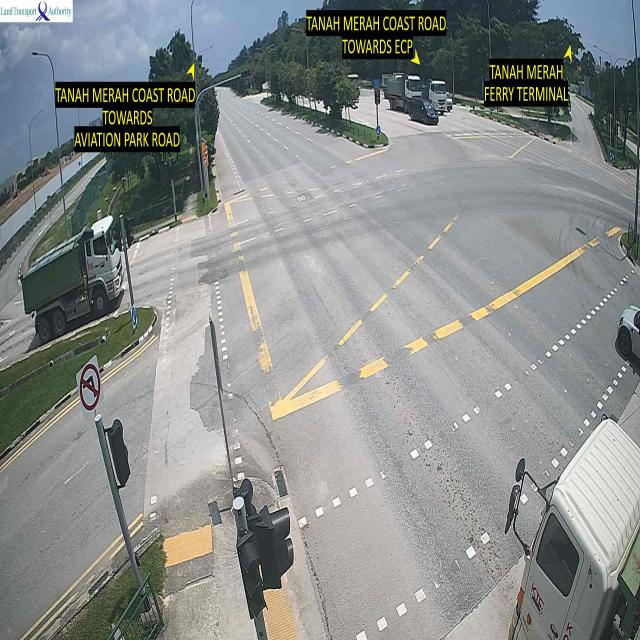-vehicles: (15, 224, 134, 342), (379, 68, 424, 118), (404, 94, 440, 124)
